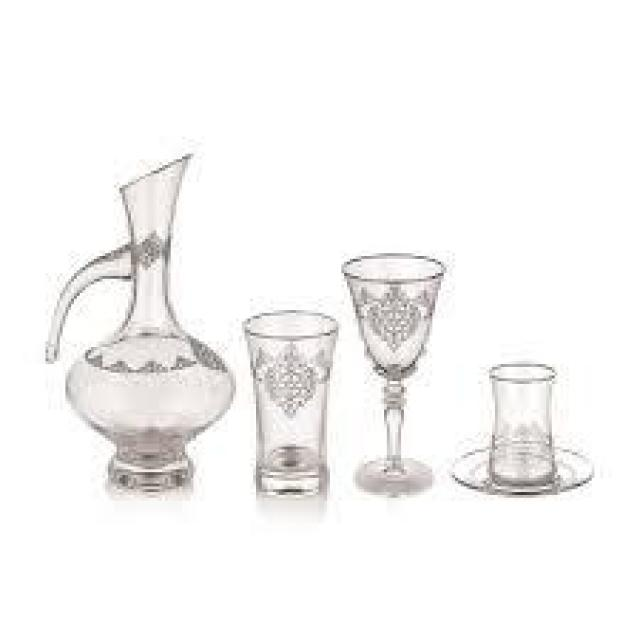non-organic waste: (41, 148, 238, 495), (338, 249, 449, 491), (452, 363, 598, 496), (237, 309, 340, 496)
